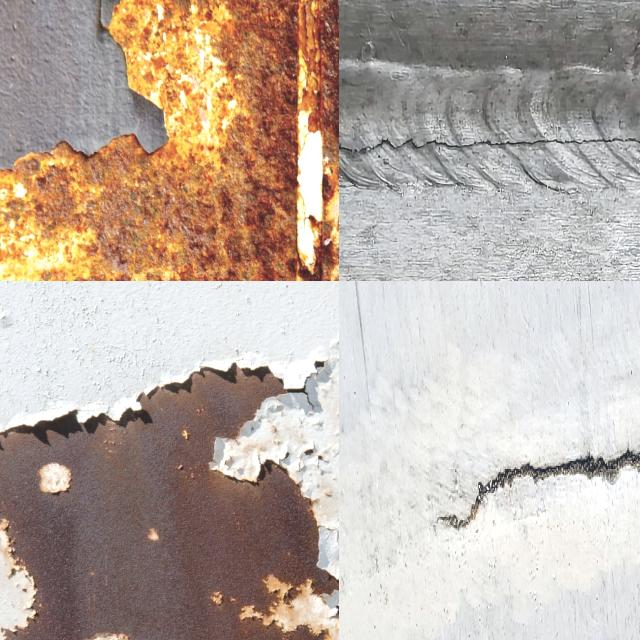Crack: (453, 450, 640, 527), (339, 135, 640, 157)
Pitting Corrosion: (0, 0, 298, 281)
Uniform Corrosion: (0, 366, 339, 640)
